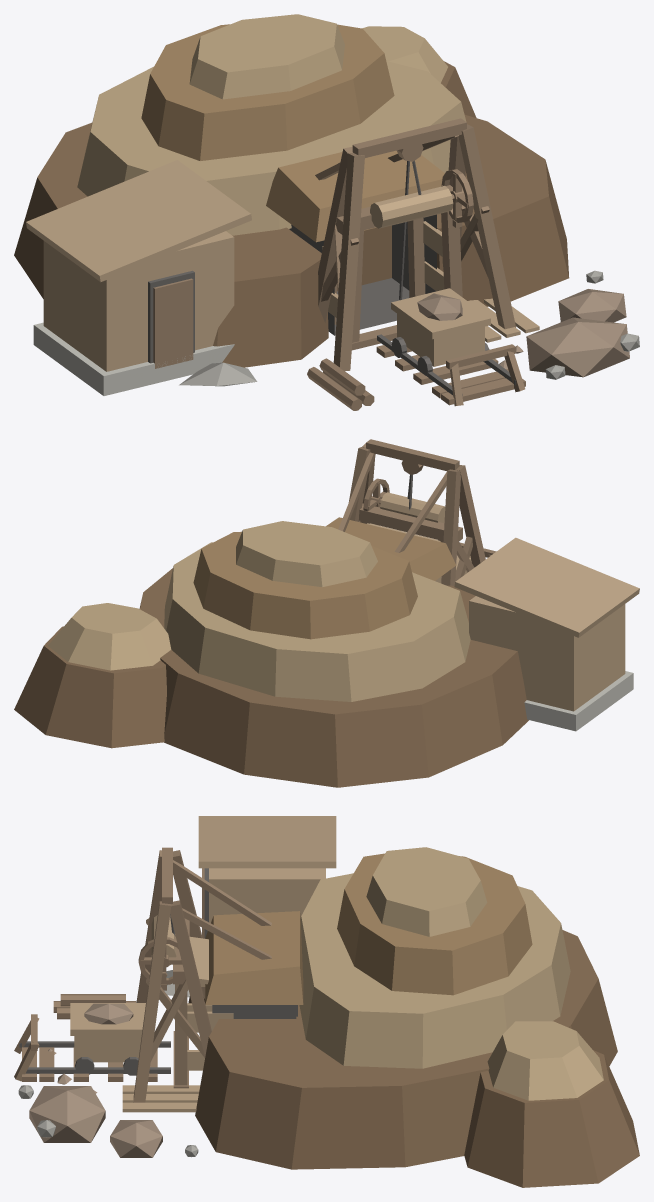
Rendered from era1-mine-C_I9MurG.glb.
The picture shows the model from 3 angles, top to bottom: view 1: azimuth 30°, elevation 25°; view 2: azimuth 150°, elevation 25°; view 3: azimuth 270°, elevation 25°; orthographic projection. The views are drawn at different scales.
Parts seen in each view (by area): view 1: Mine_RockBase, Mine_RockTop, Mine_RockMid, Mine_Shed, Mine_ShedRoof, Mine_RockCap, Mine_RockBrow, Mine_OrePile1, Mine_ShedFooting, Mine_HeadLegFL, Mine_HeadLegFR, Mine_AditDark (+22 smaller); view 2: Mine_RockBase, Mine_RockMid, Mine_RockTop, Mine_CragBase, Mine_Shed, Mine_ShedRoof, Mine_RockCap, Mine_CragTop, Mine_RockBrow, Mine_ShedFooting, Mine_HeadLegBL, Mine_PortalLintel (+7 smaller); view 3: Mine_RockBase, Mine_RockMid, Mine_CragBase, Mine_RockTop, Mine_RockCap, Mine_RockBrow, Mine_ShedRoof, Mine_CragTop, Mine_Shed, Mine_OrePile1, Mine_HeadLegFR, Mine_HeadLegBR (+20 smaller).
Boxes of the visible parts, box(x1,y1,x2,y2) form: Mine_RockBase: box(14, 115, 569, 367); Mine_RockTop: box(141, 24, 394, 160); Mine_RockMid: box(77, 61, 466, 235); Mine_Shed: box(43, 231, 234, 371); Mine_ShedRoof: box(26, 160, 251, 282); Mine_RockCap: box(189, 14, 344, 99); Mine_RockBrow: box(266, 150, 444, 242); Mine_OrePile1: box(526, 317, 629, 377); Mine_ShedFooting: box(33, 322, 234, 395); Mine_HeadLegFL: box(333, 153, 364, 370); Mine_HeadLegFR: box(458, 124, 515, 329); Mine_AditDark: box(289, 214, 436, 335); Mine_RockBase: box(139, 568, 528, 787); Mine_RockMid: box(164, 542, 470, 701); Mine_RockTop: box(193, 531, 417, 639); Mine_CragBase: box(14, 626, 166, 748); Mine_Shed: box(469, 596, 625, 711); Mine_ShedRoof: box(454, 537, 639, 637); Mine_RockCap: box(236, 521, 377, 587); Mine_CragTop: box(48, 603, 171, 670); Mine_RockBrow: box(326, 517, 456, 580); Mine_ShedFooting: box(524, 671, 633, 731); Mine_HeadLegBL: box(441, 469, 460, 585); Mine_PortalLintel: box(358, 503, 462, 541); Mine_RockBase: box(188, 930, 617, 1169); Mine_RockMid: box(299, 873, 570, 1068); Mine_CragBase: box(464, 1050, 639, 1187); Mine_RockTop: box(337, 853, 532, 995); Mine_RockCap: box(366, 847, 487, 936); Mine_RockBrow: box(205, 911, 303, 1004); Mine_ShedRoof: box(198, 816, 336, 868); Mine_CragTop: box(487, 1021, 603, 1100); Mine_Shed: box(209, 868, 325, 922); Mine_OrePile1: box(29, 1086, 105, 1142); Mine_HeadLegFR: box(133, 901, 171, 1102); Mine_HeadLegBR: box(170, 900, 211, 1057).
Size of the model in its own units: 8.74 by 3.41 by 9.08.
